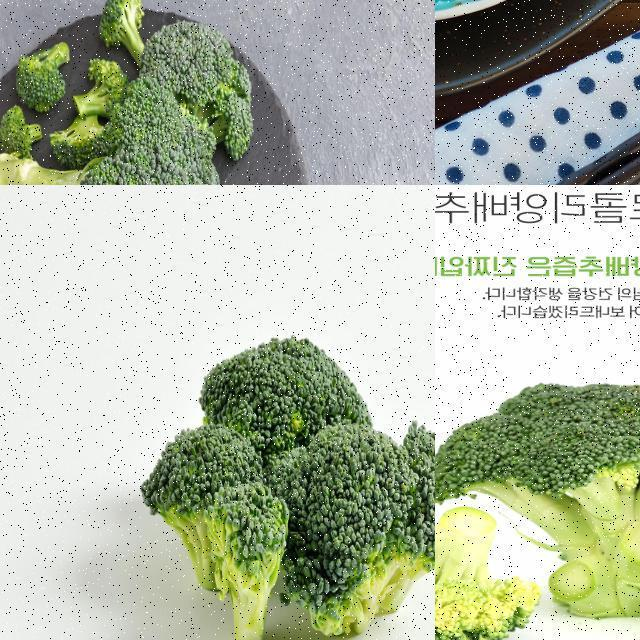broccoli: (136, 327, 434, 639), (435, 382, 639, 629), (0, 82, 226, 184), (140, 22, 252, 158), (435, 503, 542, 639), (7, 42, 68, 104)
